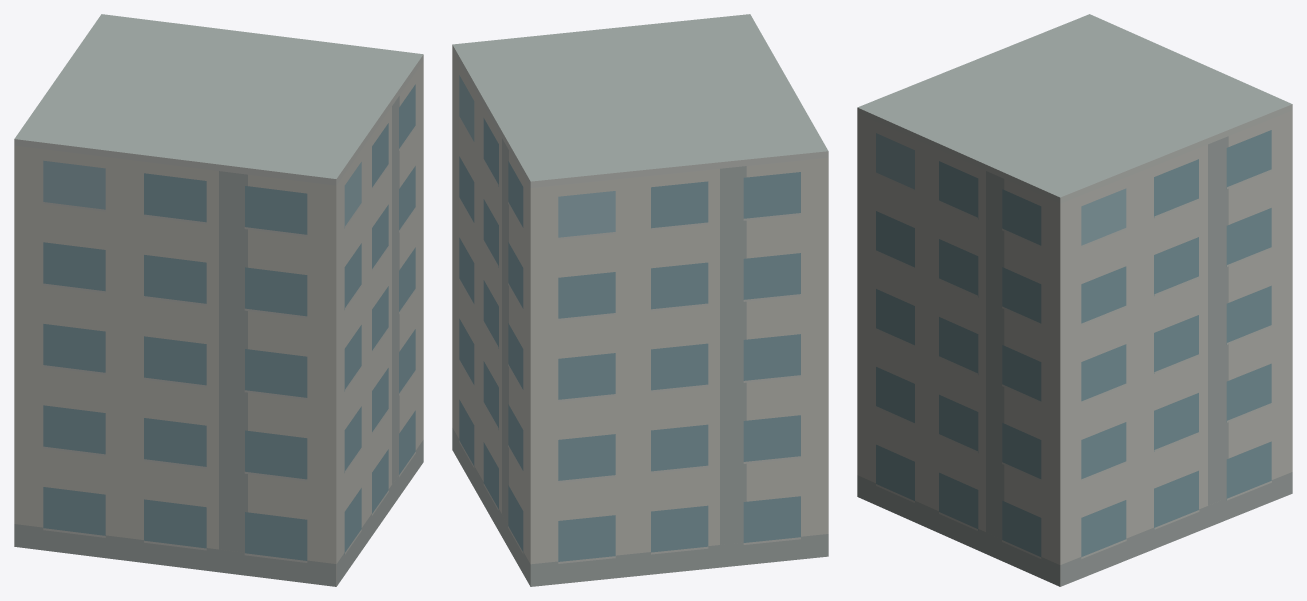
The model's file is residential-c34cf981-3e3a-4084-ae10-b45041ebf4cd.glb.
3 views of the same model, side by side, from view 1: azimuth 30°, elevation 25°; view 2: azimuth 150°, elevation 25°; view 3: azimuth 270°, elevation 25° (orthographic). The views are drawn at different scales.
Parts seen in each view (by area): view 1: residential-c34cf981-3e3a-4084-ae10-b45041ebf4cd.tmp; view 2: residential-c34cf981-3e3a-4084-ae10-b45041ebf4cd.tmp; view 3: residential-c34cf981-3e3a-4084-ae10-b45041ebf4cd.tmp.
Boxes of the visible parts, <box> form: residential-c34cf981-3e3a-4084-ae10-b45041ebf4cd.tmp: <box>14,14,423,586</box>; residential-c34cf981-3e3a-4084-ae10-b45041ebf4cd.tmp: <box>452,14,828,586</box>; residential-c34cf981-3e3a-4084-ae10-b45041ebf4cd.tmp: <box>857,14,1292,586</box>.
Bounding box in the file's own units: 15.43 × 15.25 × 15.46.
